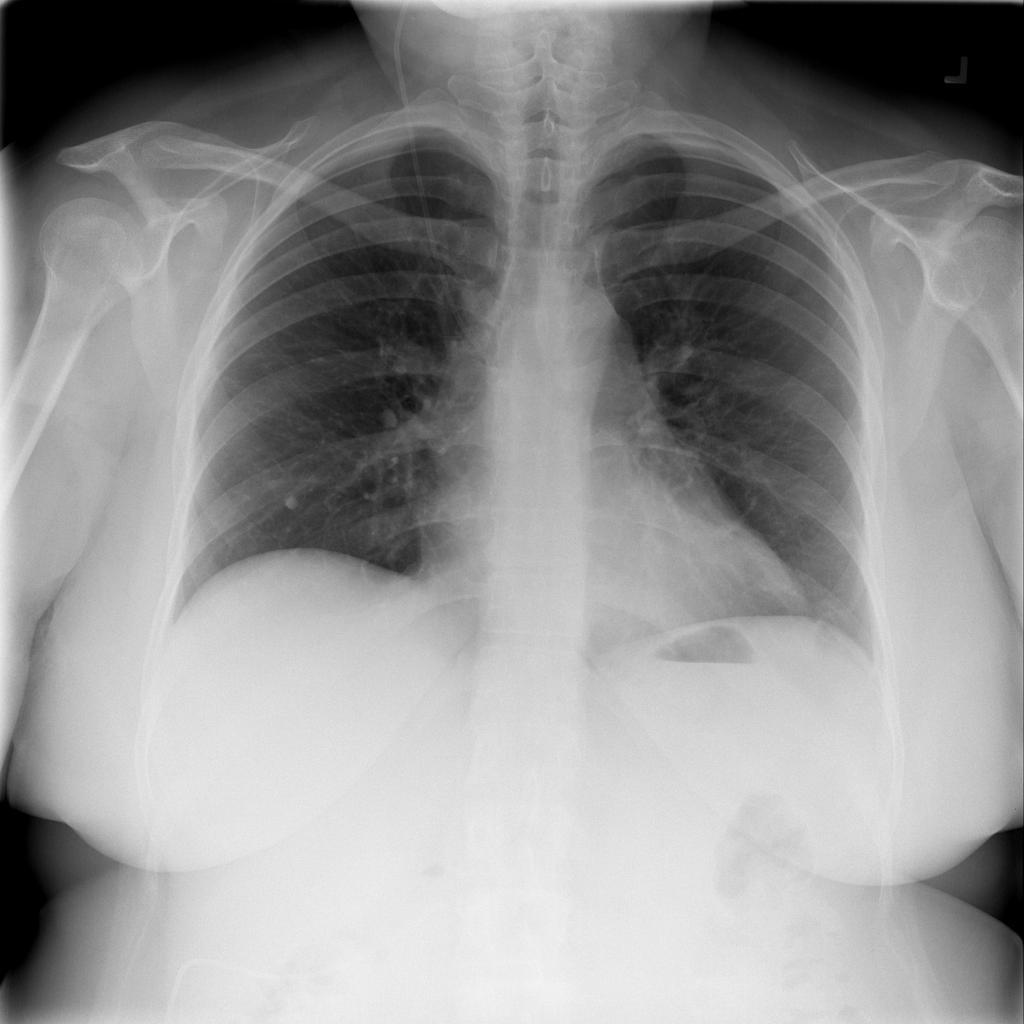nodule: (275, 480, 311, 519)
